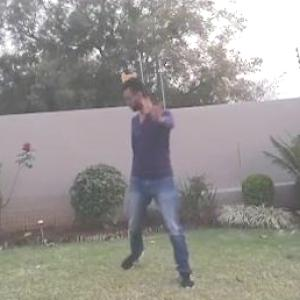takeoff-hand: (146, 89, 174, 126)
